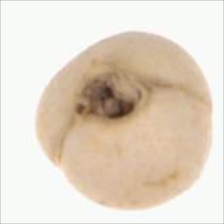L3: (75, 74, 153, 123)
L4: (35, 32, 212, 210)
